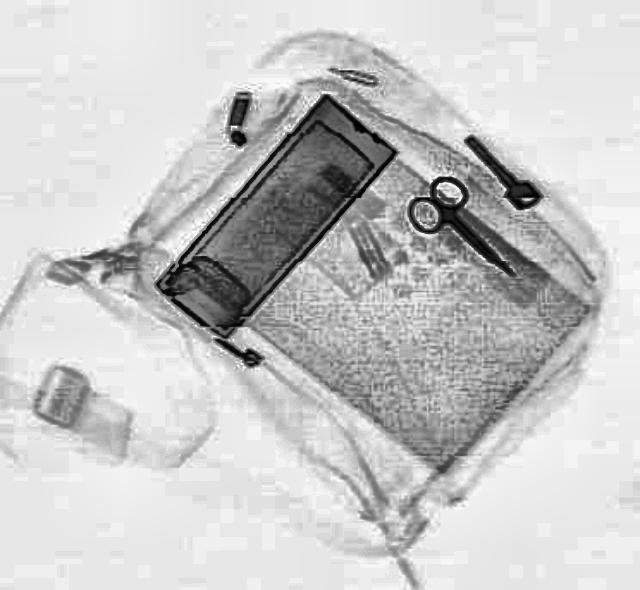Scissors: (394, 168, 536, 292)
